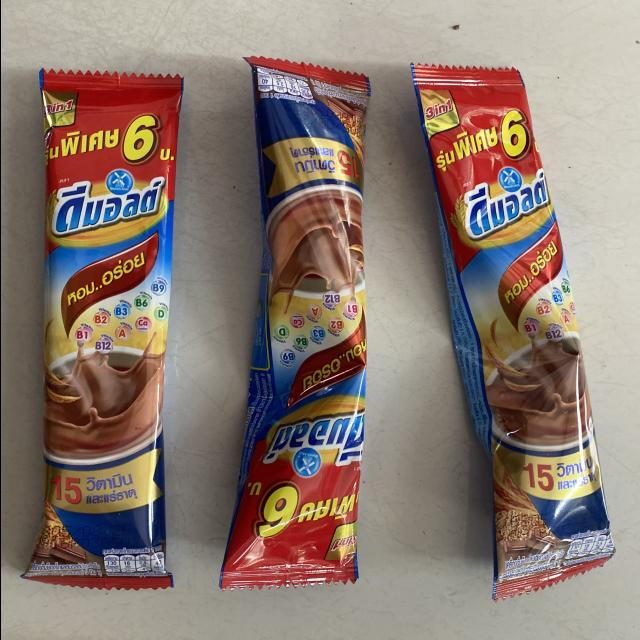plastik: (412, 65, 614, 600), (21, 70, 182, 590), (219, 56, 369, 588)
